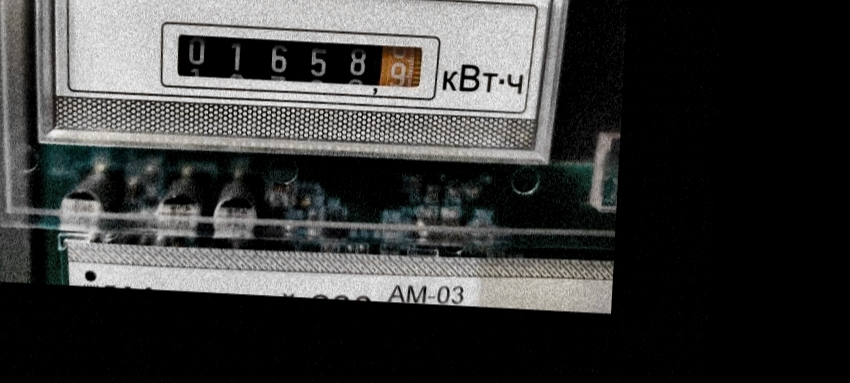0: (185, 34, 208, 67)
1: (229, 40, 244, 72)
5: (309, 45, 330, 78)
6: (269, 42, 291, 74)
8: (348, 45, 369, 78)
9: (388, 59, 407, 86)
screen: (151, 12, 446, 106)
